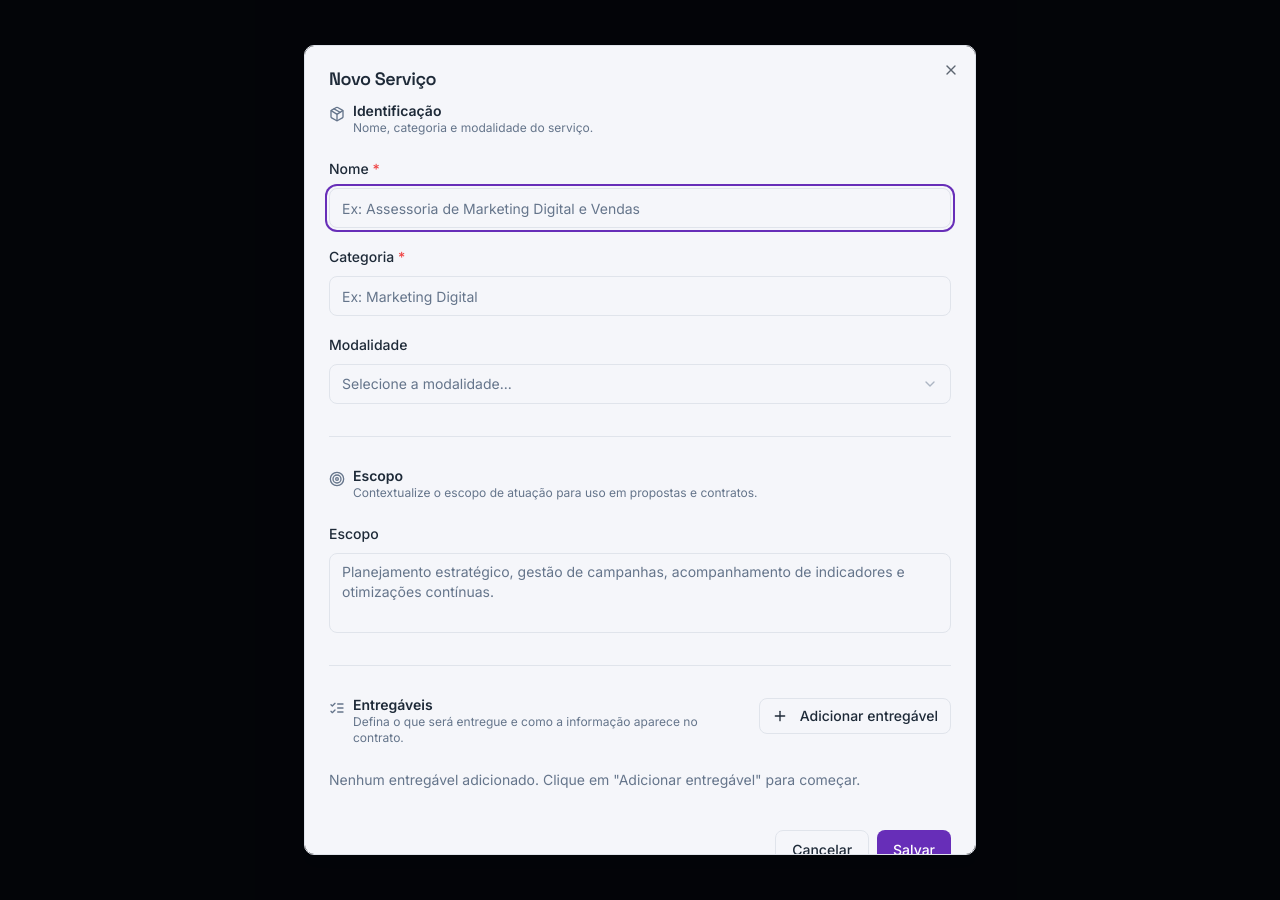
Test case: ServiceFormDialog — snapshot and interaction tests › clicking "Adicionar entregável" adds a row with name input
This screenshot has width=1280, height=900.
Click the button "Adicionar entregável" at (855, 716), box [759, 698, 951, 734]
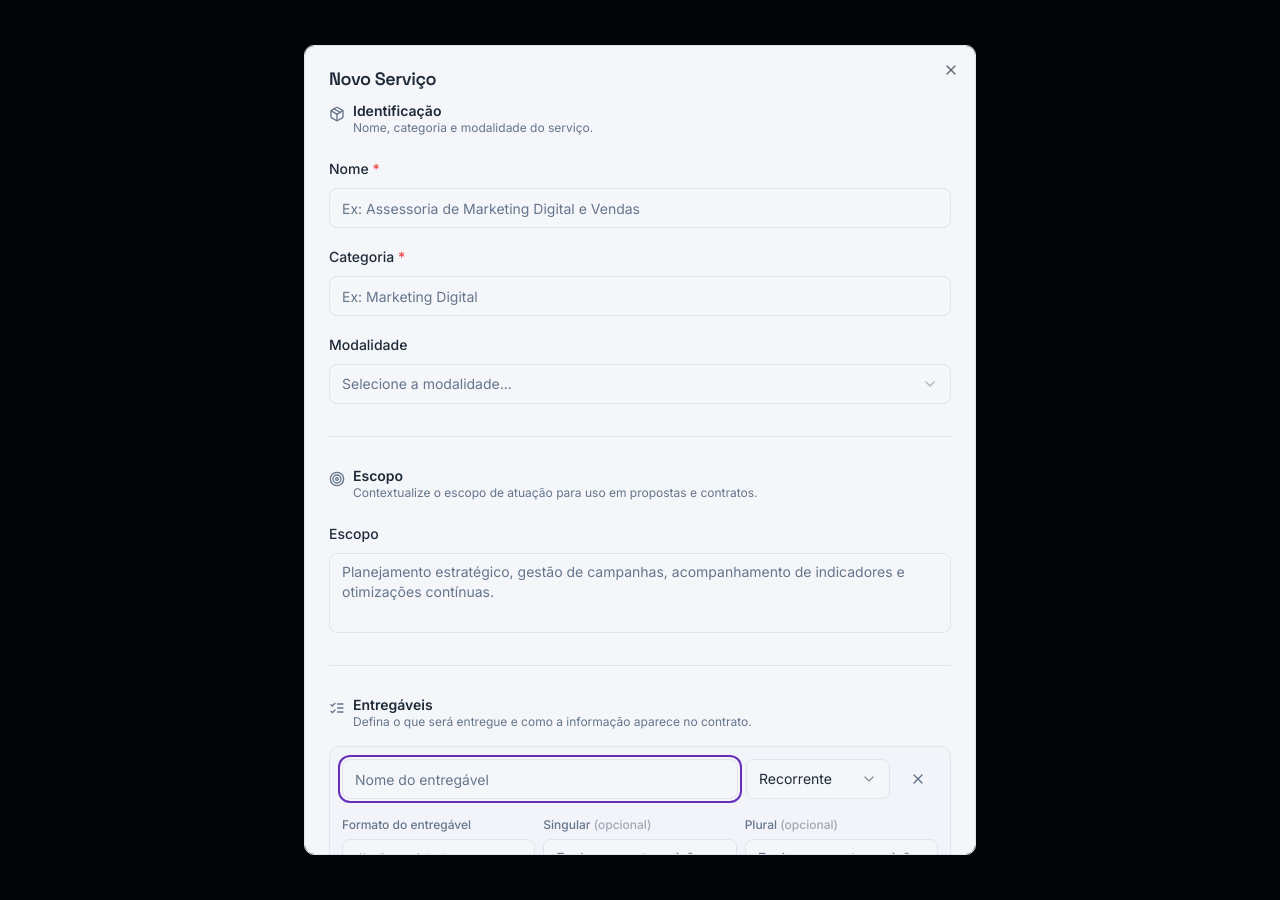
Now the field with placeholder "Nome do entregável" is shown, box [342, 759, 738, 799]
